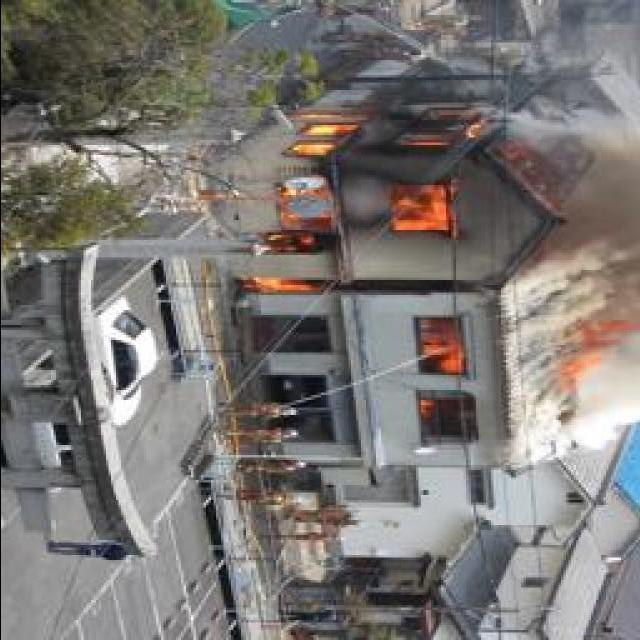Fire: (234, 87, 481, 300), (543, 307, 620, 394), (411, 312, 462, 432)
